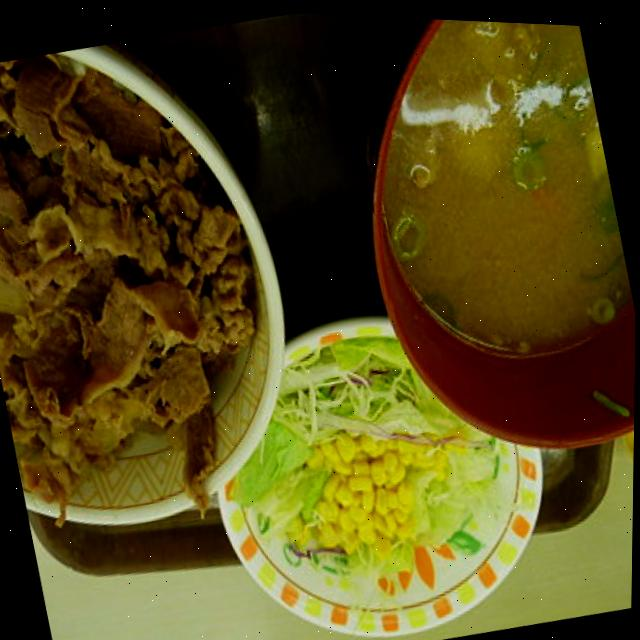蔬菜料理: (170, 269, 581, 640)
